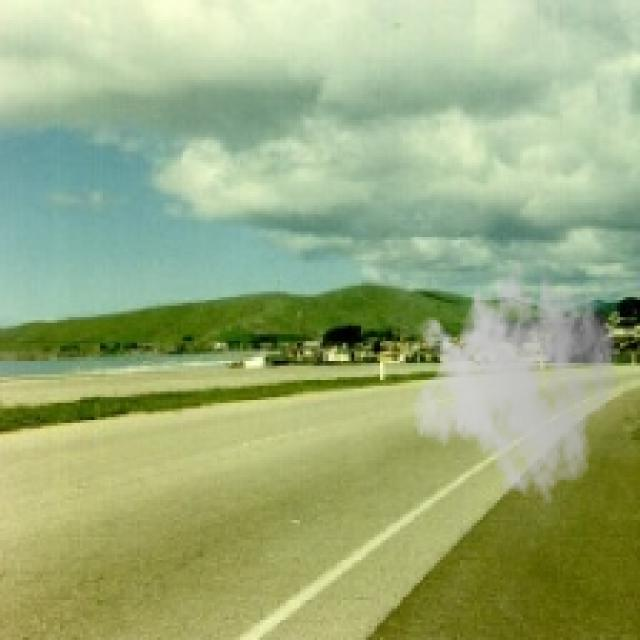smoke: (411, 243, 620, 506)
